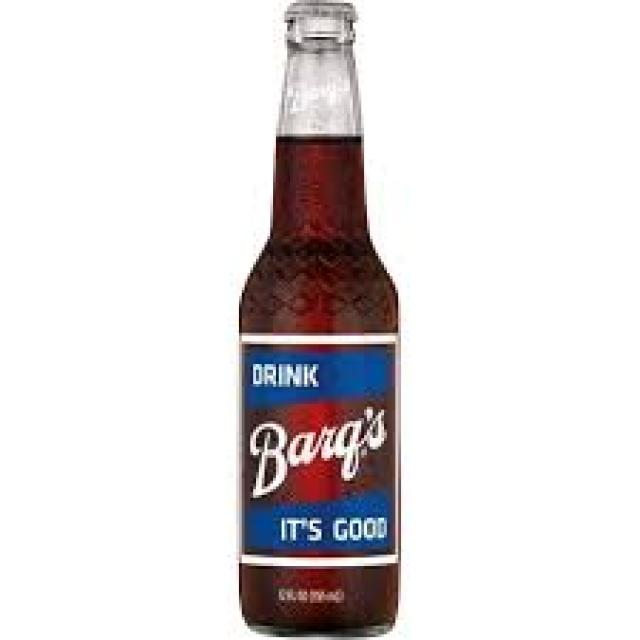Anorganik: (236, 11, 401, 634), (281, 0, 350, 17)
